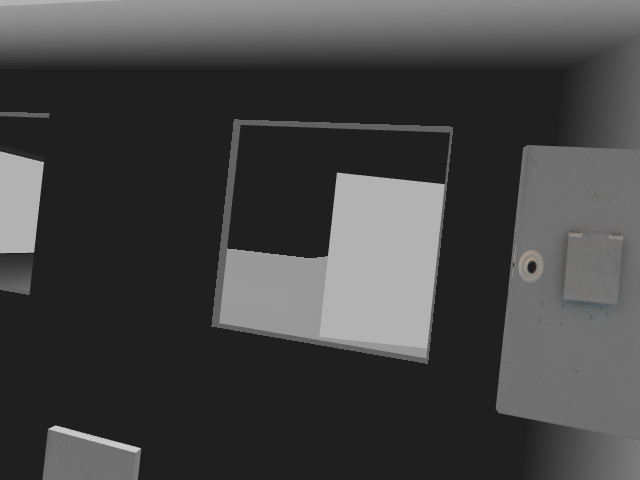facade: (512, 226, 638, 313)
